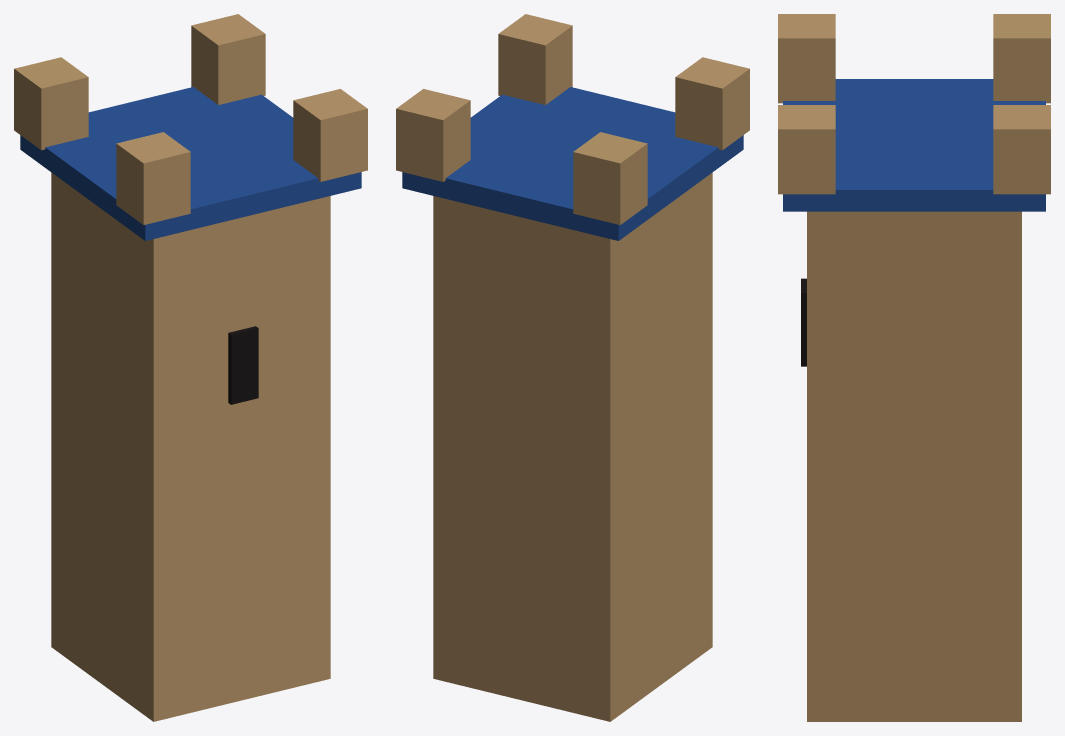
Rendered from gnoll_tower_broken.glb.
3 views of the same model, side by side, from view 1: azimuth 30°, elevation 25°; view 2: azimuth 150°, elevation 25°; view 3: azimuth 270°, elevation 25° (orthographic). The views are drawn at different scales.
Parts seen in each view (by area): view 1: gnoll_tower_piece6, gnoll_tower_piece1, gnoll_tower_piece5, gnoll_tower_piece3, gnoll_tower_piece4, gnoll_tower_piece2, gnoll_tower_piece8, gnoll_tower_piece7, gnoll_tower_piece9; view 2: gnoll_tower_piece0, gnoll_tower_piece5, gnoll_tower_piece6, gnoll_tower_piece2, gnoll_tower_piece4, gnoll_tower_piece9, gnoll_tower_piece1, gnoll_tower_piece7, gnoll_tower_piece8; view 3: gnoll_tower_piece4, gnoll_tower_piece6, gnoll_tower_piece3, gnoll_tower_piece5, gnoll_tower_piece8, gnoll_tower_piece0, gnoll_tower_piece1.
Boxes of the visible parts, left/top/right/bottom form: gnoll_tower_piece6: left=66, top=493, right=330, bottom=721; gnoll_tower_piece1: left=92, top=154, right=255, bottom=604; gnoll_tower_piece5: left=14, top=58, right=300, bottom=373; gnoll_tower_piece3: left=148, top=117, right=367, bottom=506; gnoll_tower_piece4: left=141, top=14, right=351, bottom=149; gnoll_tower_piece2: left=14, top=125, right=104, bottom=571; gnoll_tower_piece8: left=268, top=93, right=367, bottom=277; gnoll_tower_piece7: left=51, top=398, right=98, bottom=657; gnoll_tower_piece9: left=59, top=57, right=166, bottom=126; gnoll_tower_piece0: left=433, top=176, right=563, bottom=683; gnoll_tower_piece5: left=530, top=57, right=738, bottom=370; gnoll_tower_piece6: left=433, top=425, right=712, bottom=714; gnoll_tower_piece2: left=571, top=220, right=663, bottom=684; gnoll_tower_piece4: left=396, top=25, right=558, bottom=383; gnoll_tower_piece9: left=468, top=150, right=577, bottom=694; gnoll_tower_piece1: left=651, top=60, right=749, bottom=619; gnoll_tower_piece7: left=569, top=405, right=657, bottom=721; gnoll_tower_piece8: left=510, top=14, right=587, bottom=120; gnoll_tower_piece4: left=809, top=105, right=1050, bottom=468; gnoll_tower_piece6: left=807, top=484, right=1021, bottom=721; gnoll_tower_piece3: left=778, top=137, right=1011, bottom=540; gnoll_tower_piece5: left=778, top=14, right=1050, bottom=165; gnoll_tower_piece8: left=778, top=105, right=877, bottom=244; gnoll_tower_piece0: left=982, top=121, right=1021, bottom=496; gnoll_tower_piece1: left=778, top=14, right=806, bottom=286.
Bounding box in the file's own units: 1.14 × 2.79 × 1.14.
